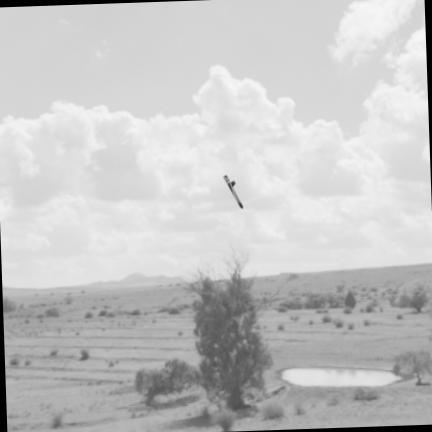Shahed: (224, 175, 243, 208)
